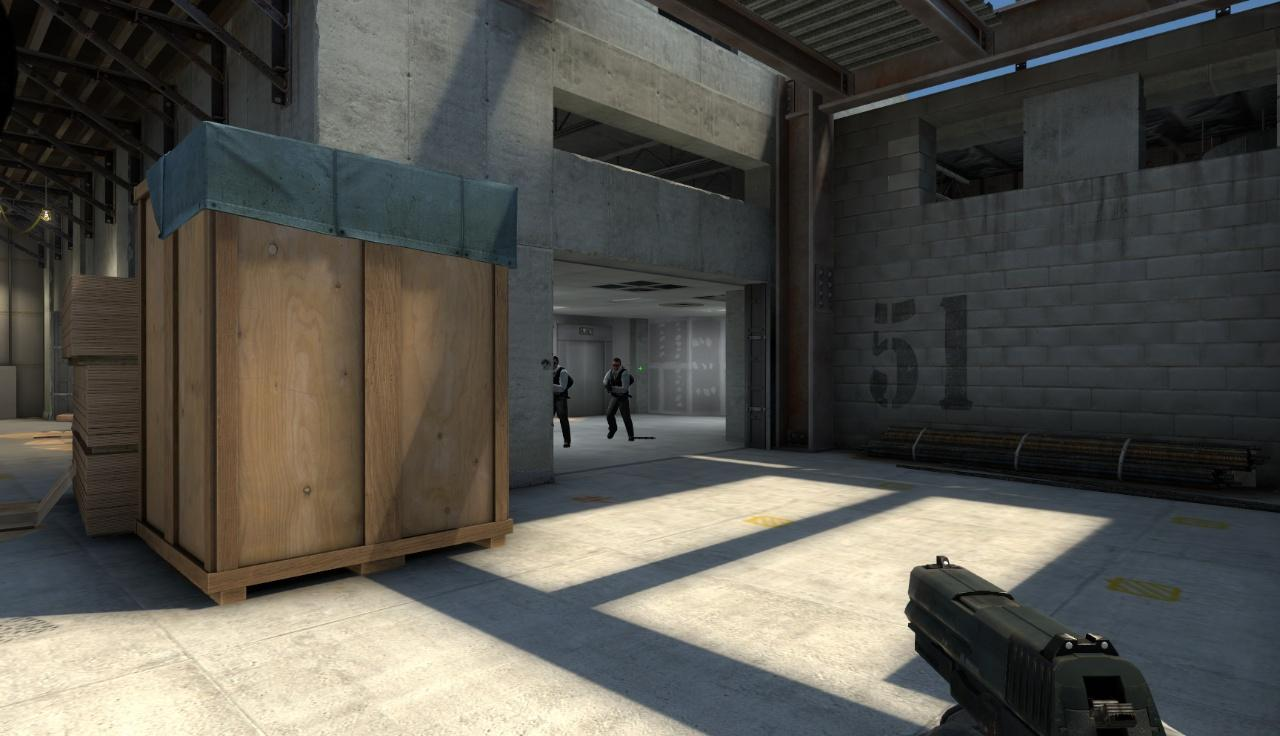pistol: (904, 556, 1166, 736)
tt: (601, 358, 637, 441), (550, 356, 571, 447)
tthead: (612, 357, 621, 374), (552, 356, 560, 369)
